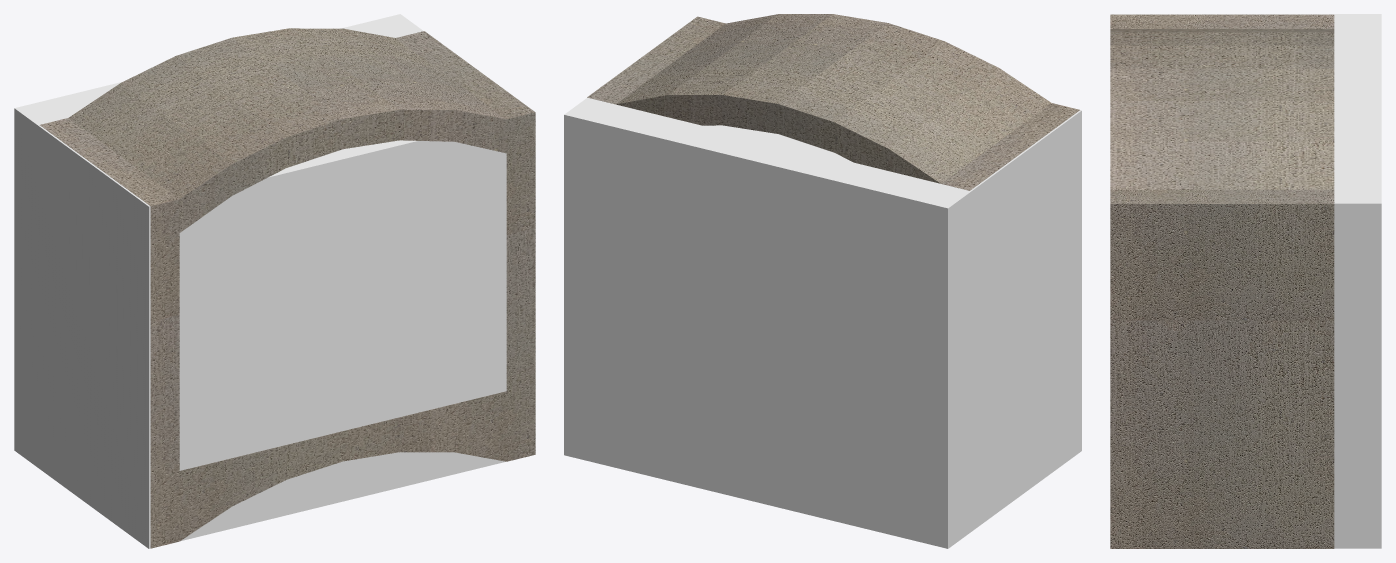
3 views of the same model, side by side, from view 1: azimuth 30°, elevation 25°; view 2: azimuth 150°, elevation 25°; view 3: azimuth 270°, elevation 25° (orthographic).
Visible parts, largest first — view 1: _bb001, limestone; view 2: _bb001, limestone; view 3: limestone, _bb001.
Part boxes in pixels (x1,y1,x2,y2): _bb001: [14, 14, 506, 548]; limestone: [40, 28, 535, 548]; _bb001: [564, 97, 1081, 548]; limestone: [587, 14, 1079, 190]; limestone: [1110, 14, 1334, 548]; _bb001: [1110, 14, 1381, 548].
Size of the model in its own units: 0.4018 by 0.38 by 0.2423.
2 materials, 1 textured.
